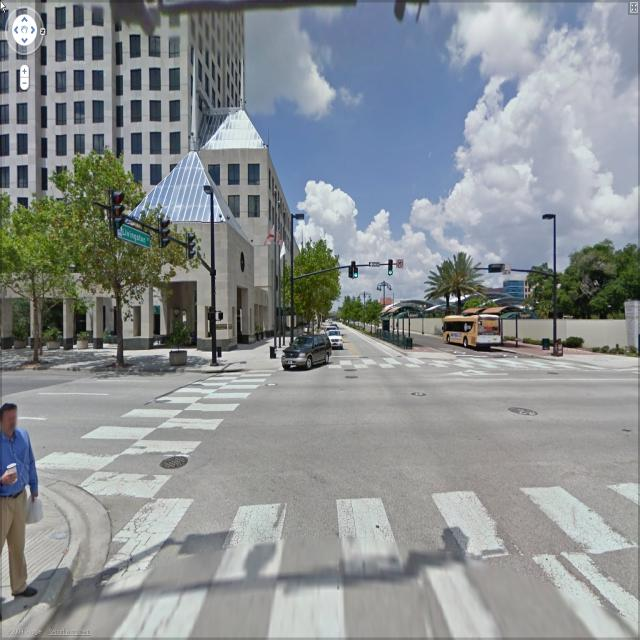b_1: (1, 1, 246, 177), (503, 270, 541, 303)
b_2: (0, 122, 338, 350), (496, 265, 550, 319)
